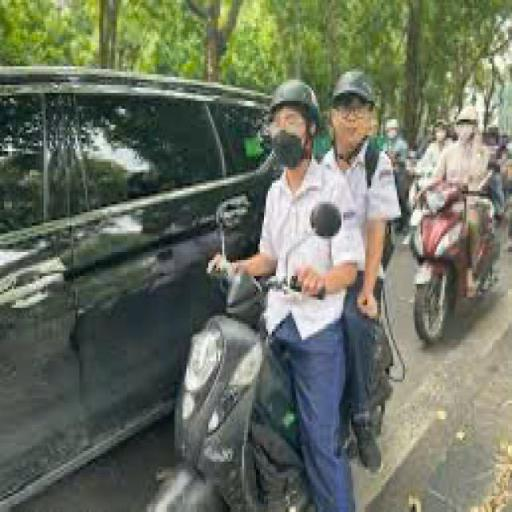with helmet: (266, 76, 323, 124), (330, 65, 376, 112), (455, 98, 484, 128), (429, 112, 454, 132), (383, 114, 402, 131)
